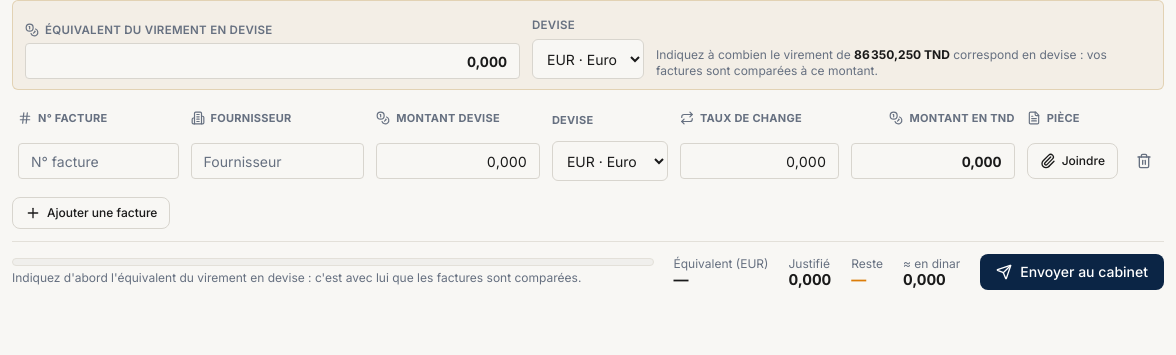
Test: SwiftFacturesEditor › propose l'euro et le dollar pour la devise du virement et celle de chaque facture ; changer la devise du virement suit sur les factures
The width and height of the screenshot is (1176, 355).
Expected: the dropdown labelled "Devise" shows "EUR · Euro", [532,39,644,79]
Click the button "Ajouter une facture": (91, 213) [12,197,170,229]
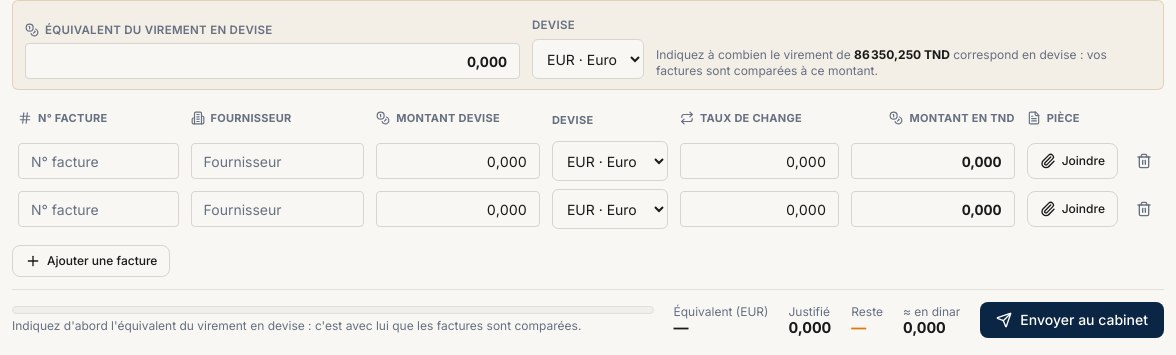
Expected: the dropdown named "Devise de la facture 1" shows "EUR · Euro", [552,141,668,181]
Select "USD · Dollar" in the dropdown labelled "Devise": (588, 59) [532,39,644,79]
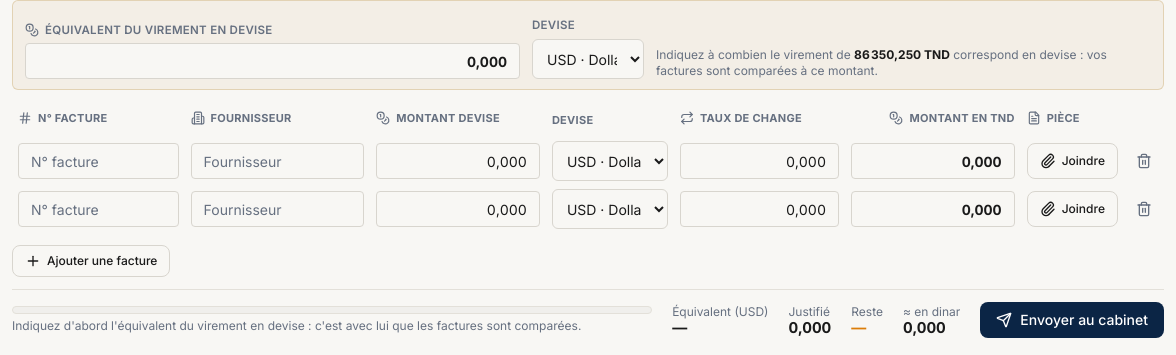
Expected: the dropdown named "Devise de la facture 1" shows "USD · Dollar", [552,141,668,181]
